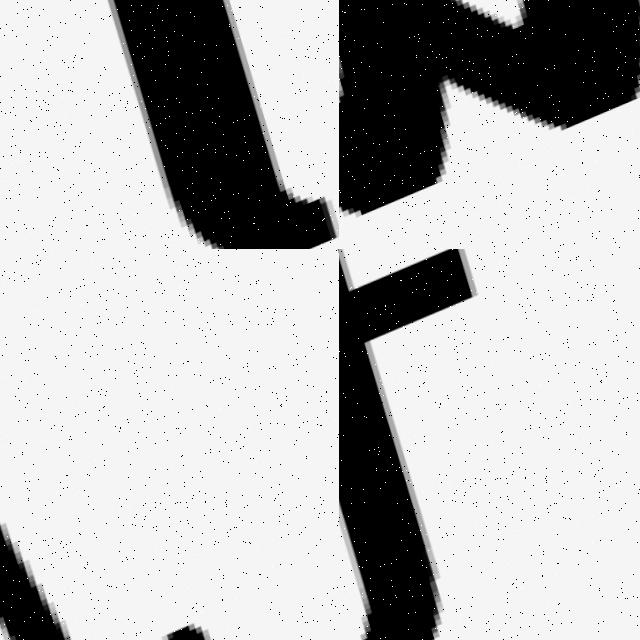J: (0, 249, 251, 640), (13, 0, 339, 249)
T: (339, 249, 602, 640)
W: (339, 0, 640, 249)
